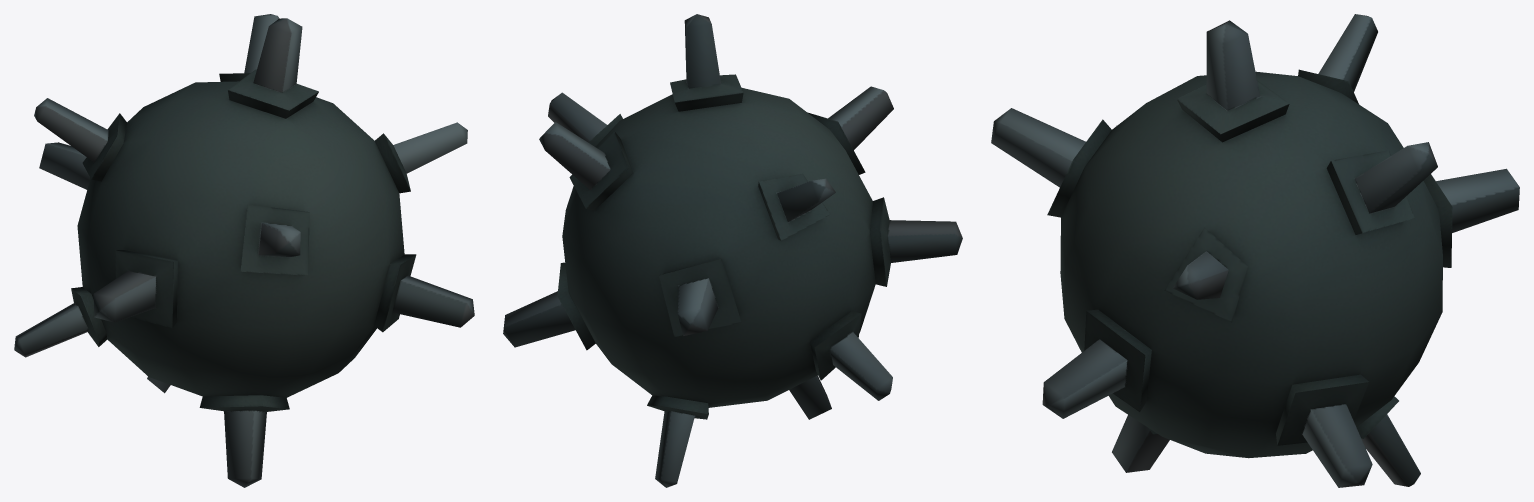
File: mina.fbx
3 renders of one model, left to right at view 1: azimuth 30°, elevation 25°; view 2: azimuth 150°, elevation 25°; view 3: azimuth 270°, elevation 25°, orthographic. The views are drawn at different scales.
Parts seen in each view (by area): view 1: mina; view 2: mina; view 3: mina.
Boxes of the visible parts, bbox=[...] form: mina: bbox=[14, 14, 474, 487]; mina: bbox=[503, 14, 962, 487]; mina: bbox=[991, 14, 1519, 487].
Bounding box in the file's own units: 202 × 202 × 197.
1 material, 1 textured.
